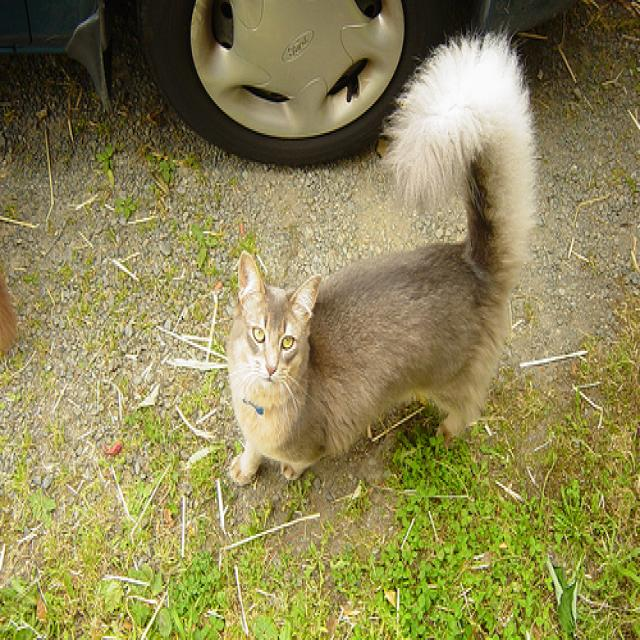left eye: (279, 331, 294, 351)
